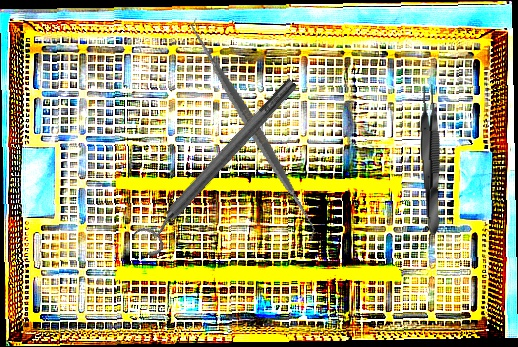Fixation Ring: (127, 71, 308, 260)
Spatula Surgical: (137, 17, 370, 242)
Tissue Forceps: (417, 84, 444, 236)
